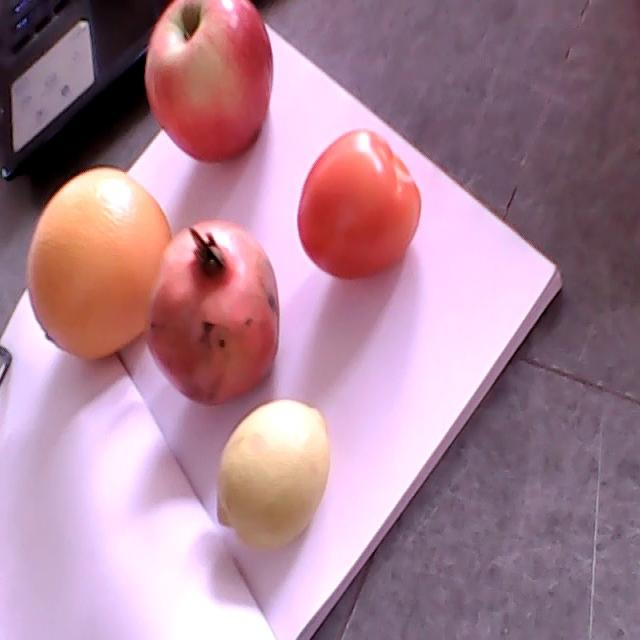apple: (145, 0, 274, 157)
lemon: (215, 401, 333, 553)
orange: (21, 164, 174, 359)
pomegranate: (147, 220, 280, 406)
tomato: (301, 128, 422, 274)
